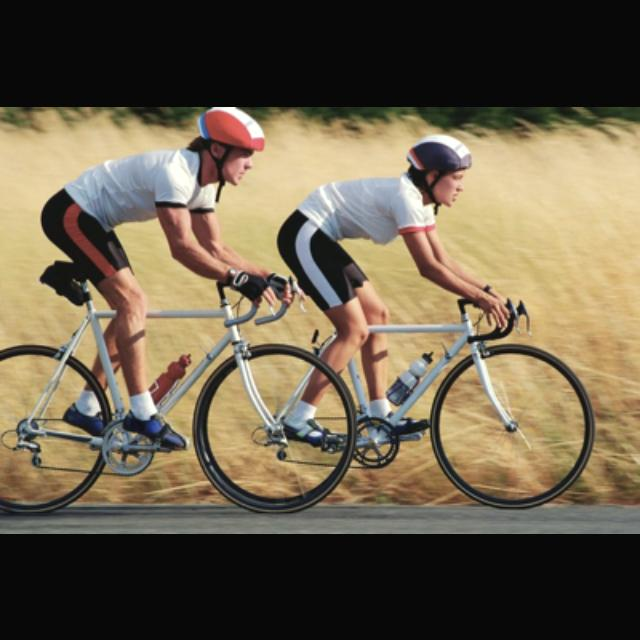With Helmet: (172, 106, 282, 196), (398, 130, 480, 214)
